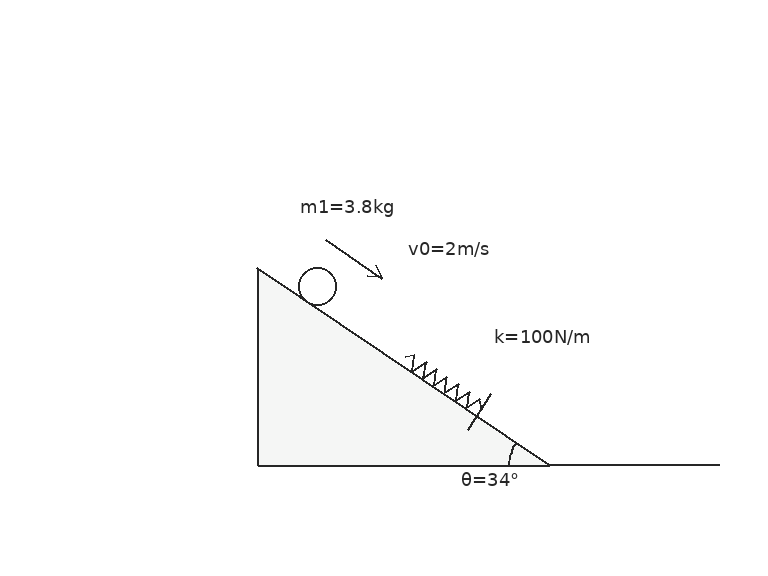ball: (296, 265, 338, 307)
ramp: (255, 266, 551, 467)
spring: (403, 353, 483, 410)
